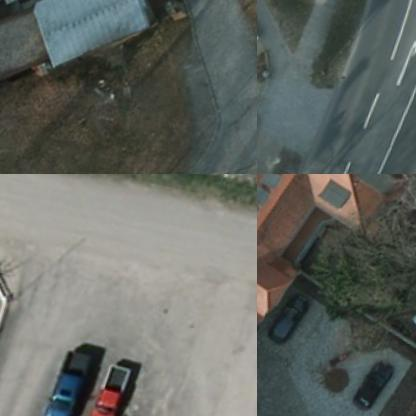car: (355, 356, 403, 415), (274, 292, 316, 352)
pickup: (45, 342, 102, 415), (90, 362, 144, 415)
